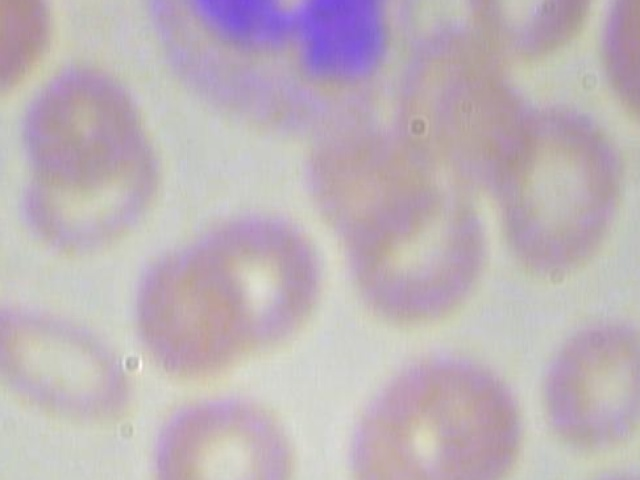RBC: (332, 155, 504, 331), (0, 284, 148, 439), (379, 350, 533, 480), (126, 246, 263, 388), (528, 311, 640, 452), (143, 389, 307, 480), (462, 0, 598, 68), (0, 0, 61, 103), (0, 155, 10, 346), (561, 458, 640, 480)
